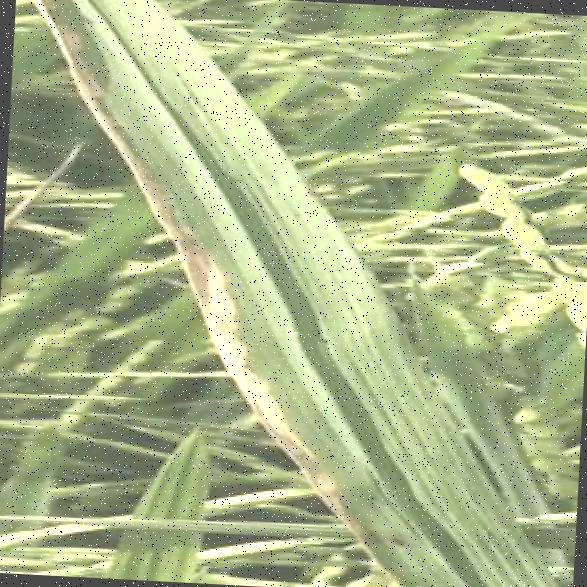Bacteria_Leaf_Blight: (117, 54, 415, 528)
